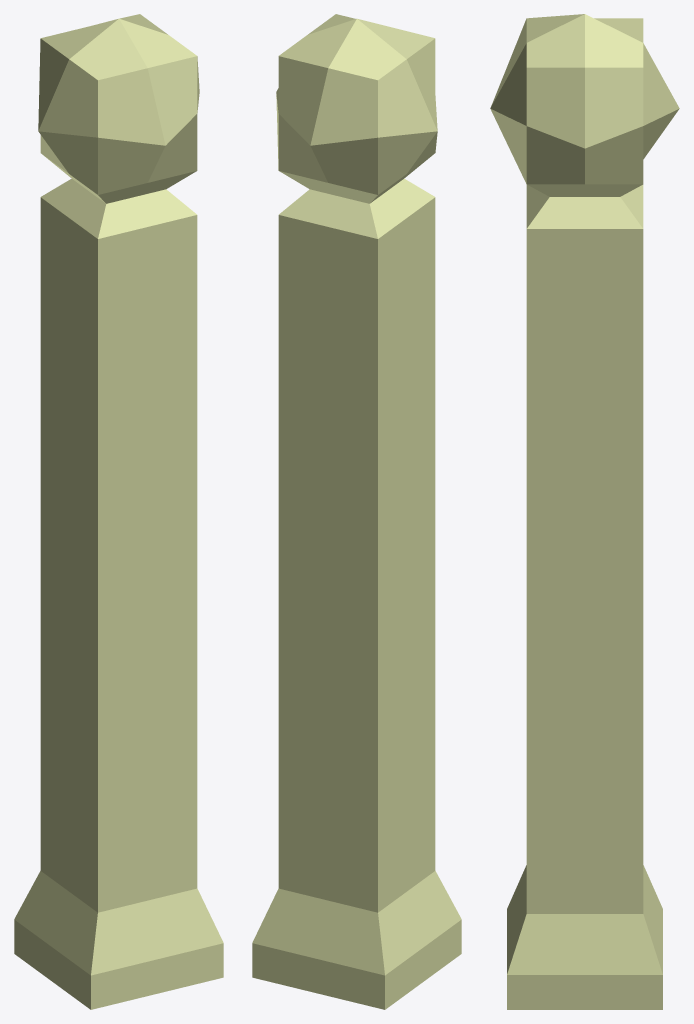
Rendered from Plot_01.fbx.
The picture shows the model from 3 angles, left to right: view 1: azimuth 30°, elevation 25°; view 2: azimuth 150°, elevation 25°; view 3: azimuth 270°, elevation 25°; orthographic projection.
Visible parts, largest first — view 1: Cube.012; view 2: Cube.012; view 3: Cube.012.
Boxes of the visible parts, left/top/right/bottom form: Cube.012: left=14, top=14, right=223, bottom=1009; Cube.012: left=252, top=14, right=461, bottom=1009; Cube.012: left=490, top=14, right=679, bottom=1009.
Size of the model in its own units: 25.41 by 142 by 25.41.
